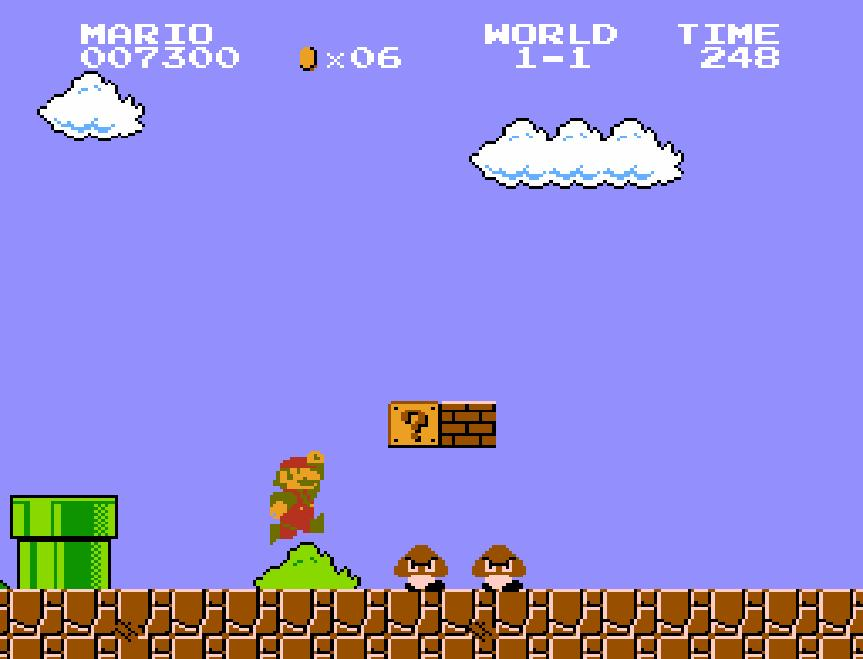big_mario: (267, 449, 325, 547)
